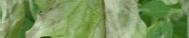Tomato leaf late blight: (27, 0, 160, 38)
